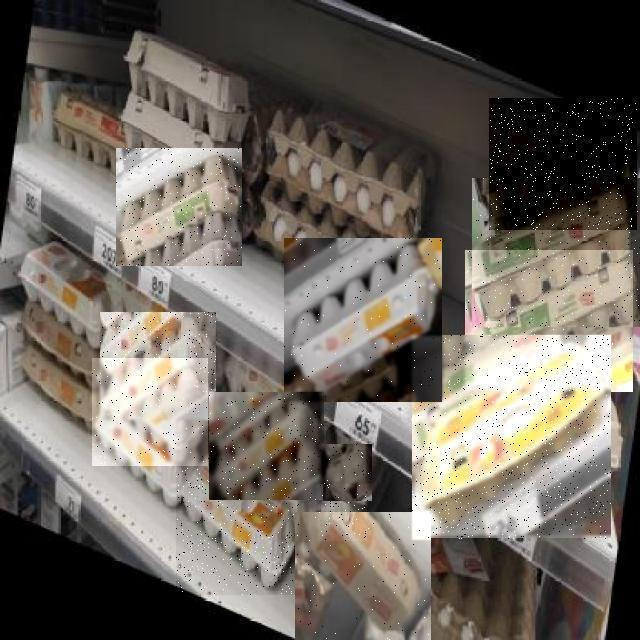Eggs: (412, 336, 611, 540), (284, 238, 442, 402), (472, 178, 640, 327), (465, 250, 633, 392), (176, 436, 302, 595), (489, 99, 637, 231), (295, 512, 431, 640), (116, 149, 242, 267), (101, 312, 217, 420), (92, 359, 208, 467), (210, 392, 326, 500), (323, 444, 372, 501), (318, 484, 367, 541)
